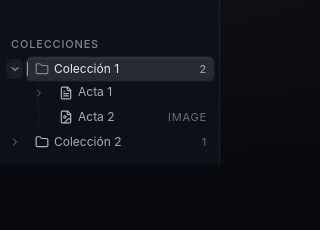
Test: DocumentExplorer › keeps multi-asset document nodes expandable and nested
Click the button named "Expandir documento Acta 1" at (38, 93), box [30, 83, 47, 103]
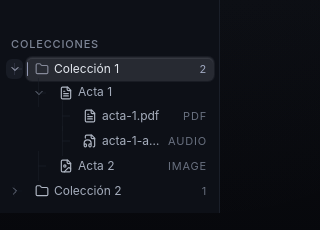
Check: the list item "Acta 1" is expanded, box [6, 81, 214, 153]
Check: the list item "acta-1.pdf" is shown, box [74, 104, 214, 128]
Check: the list item "acta-1-audio.mp3" is shown, box [74, 129, 214, 153]
